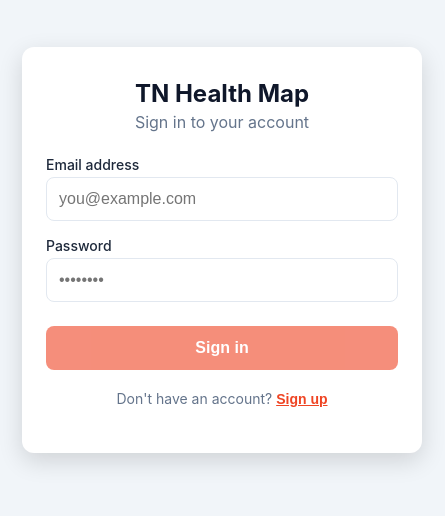
Test: LoginForm › displays a sign-up error when signUp returns an error
Step 1. Click the button "Sign up" → (302, 399), box [276,391,328,407]
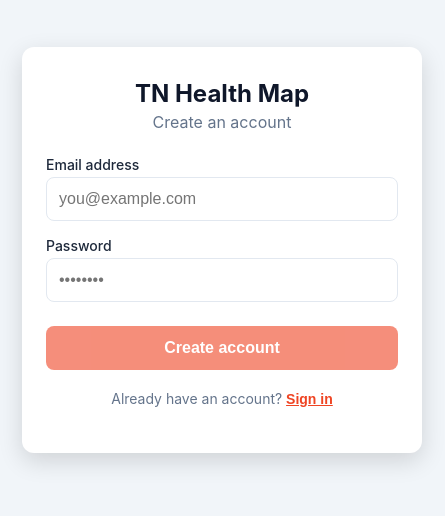
Step 2. Type "existing@example.com" into the field labelled "Email address" → (222, 199), box [46,177,398,221]
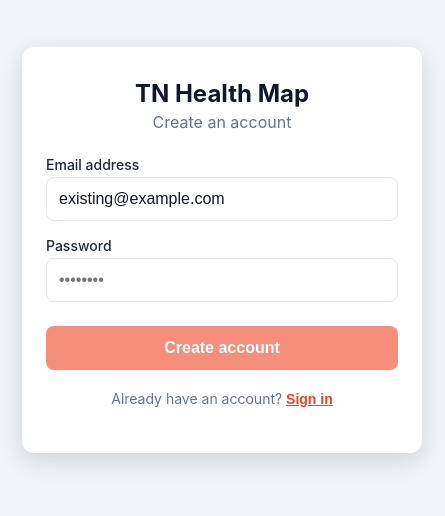
Step 3. Type "password123" into the password field labelled "Password" → (222, 280), box [46,258,398,302]
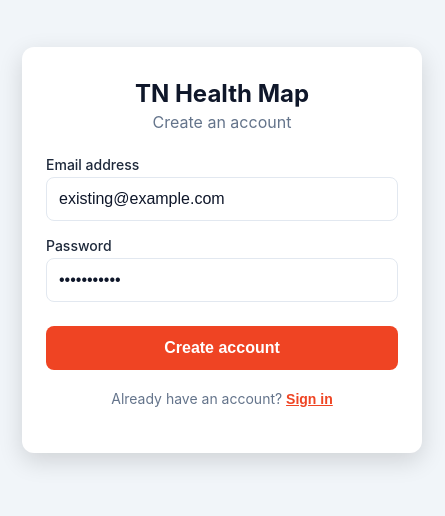
Step 4. Click the button "Create account" → (222, 348), box [46,326,398,370]
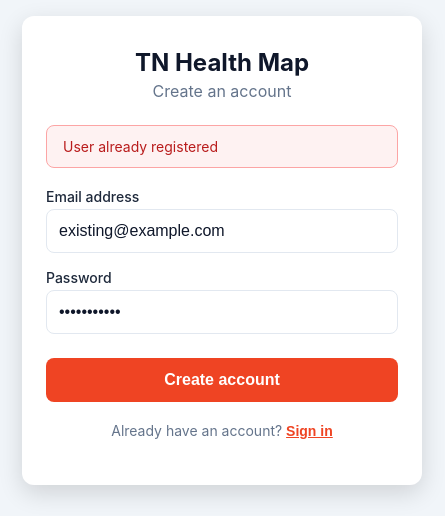
Check: the message reads "User already registered", box [63,138,218,154]
